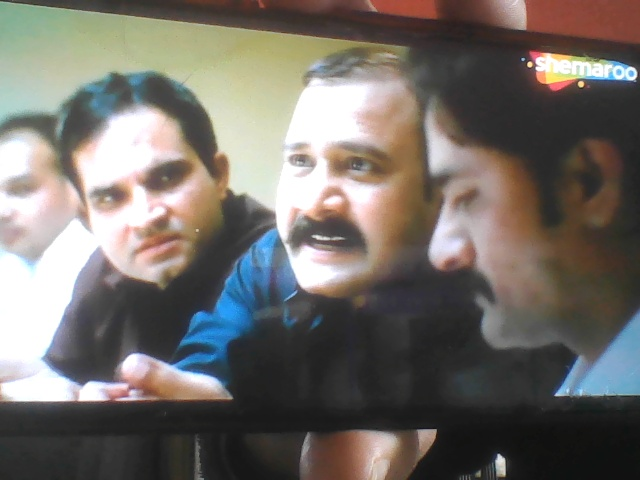fake: (258, 18, 464, 310), (406, 52, 604, 332), (70, 68, 232, 297)
